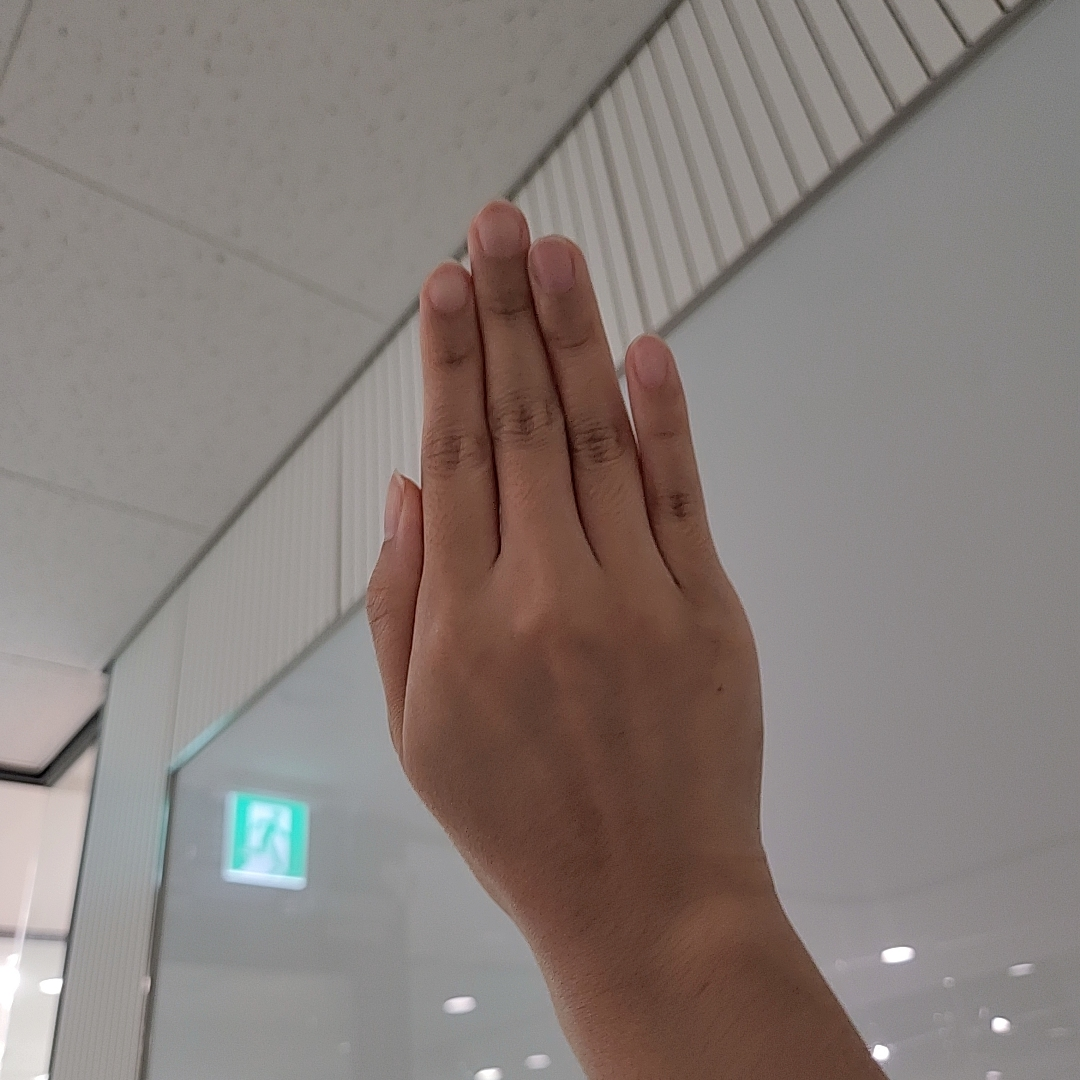me: (367, 201, 762, 895)
